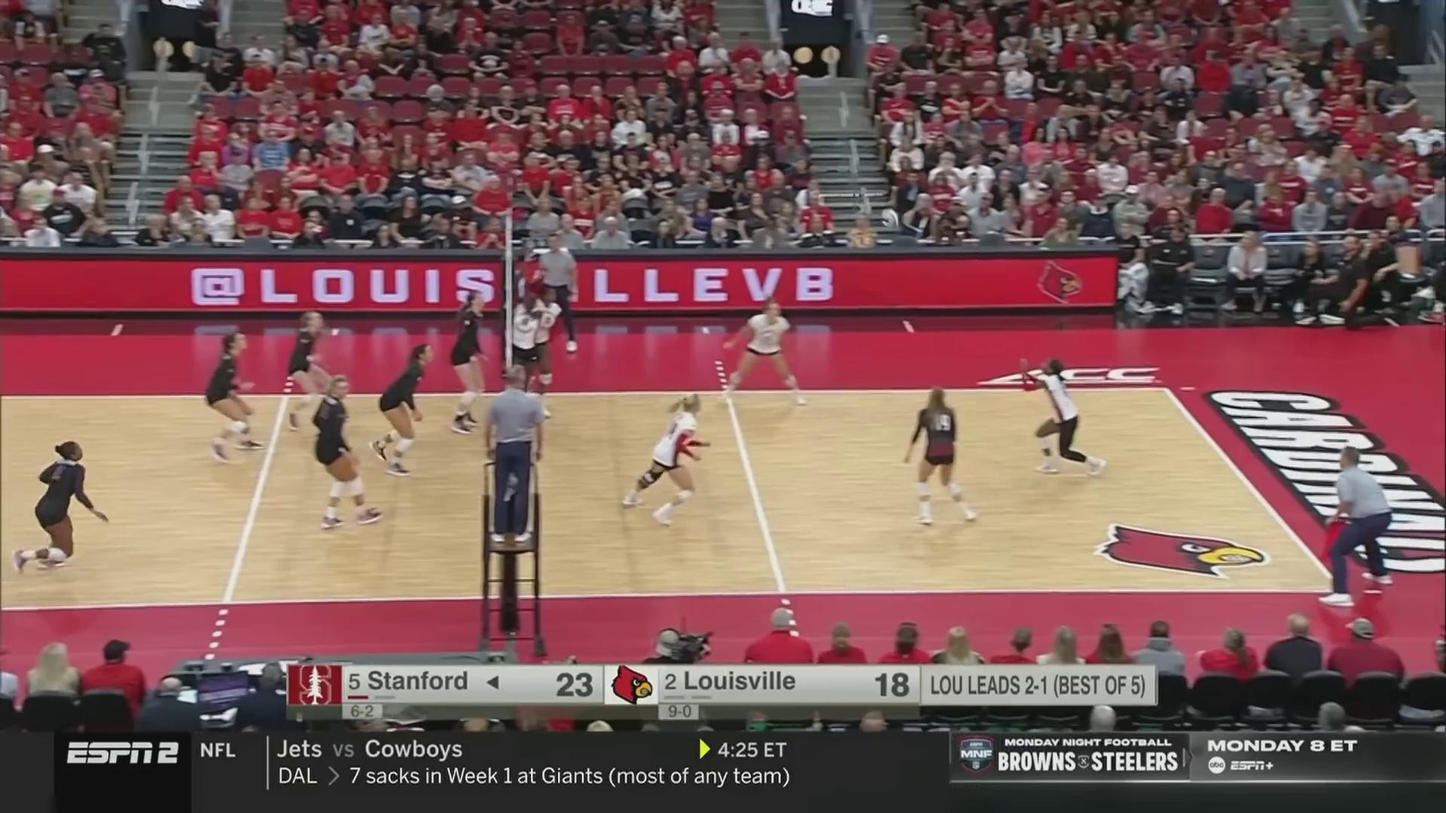player: (15, 447, 111, 573), (619, 393, 707, 525), (1018, 357, 1105, 481), (317, 375, 382, 530), (904, 387, 977, 523), (720, 301, 806, 407), (372, 343, 433, 471), (205, 332, 264, 458), (288, 311, 343, 431), (449, 291, 489, 436), (527, 288, 565, 418), (512, 291, 541, 418)
refree: (1319, 445, 1396, 605), (483, 371, 545, 539), (534, 239, 579, 354)
